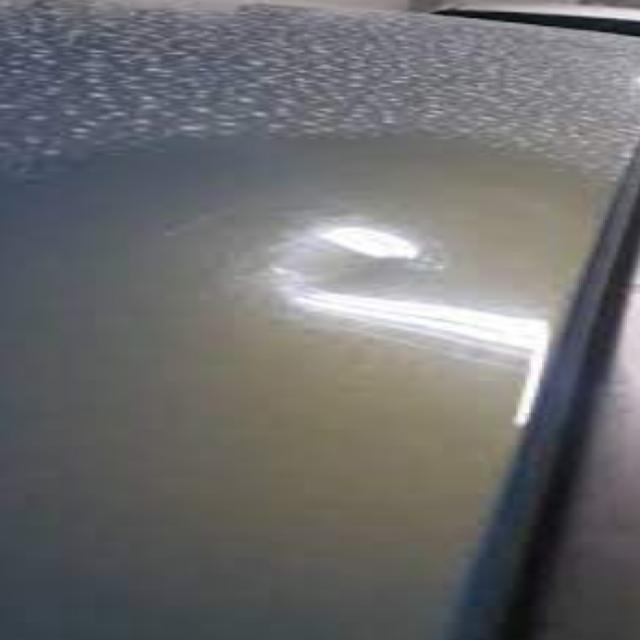dents: (242, 229, 434, 327)
